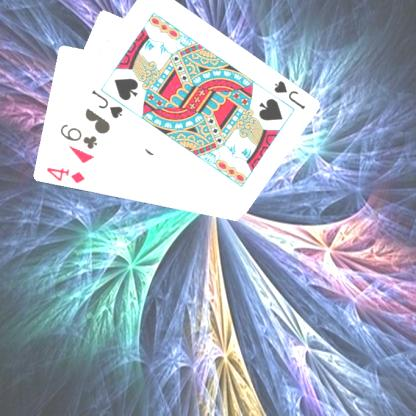4D: (43, 165, 86, 185)
6C: (57, 121, 98, 151)
JS: (270, 77, 307, 111), (88, 87, 124, 120)
